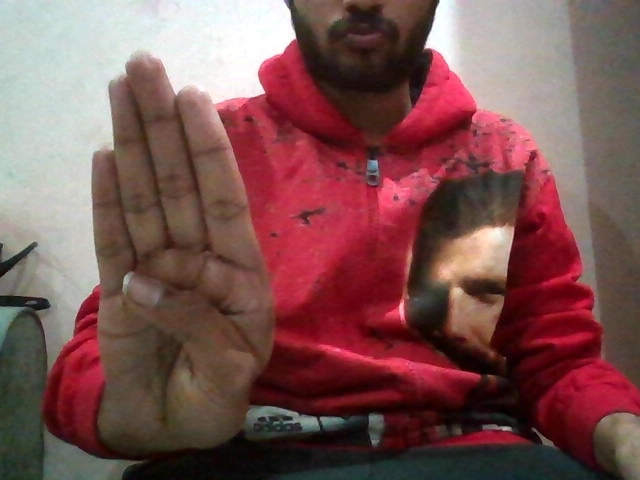B: (61, 43, 285, 445)
